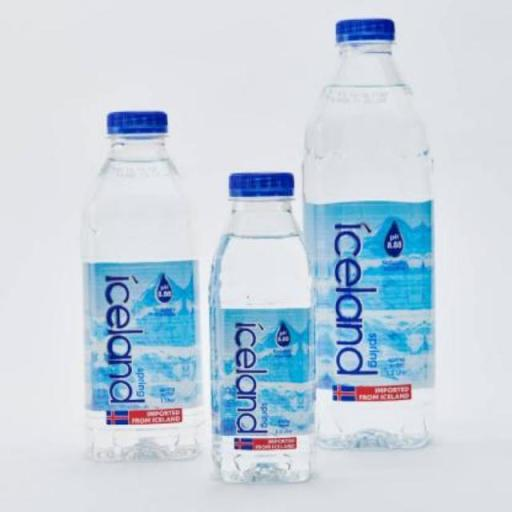Coca: (292, 12, 454, 463), (75, 100, 210, 473), (190, 159, 327, 489)
